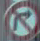Don't turn right: (3, 1, 39, 39)
